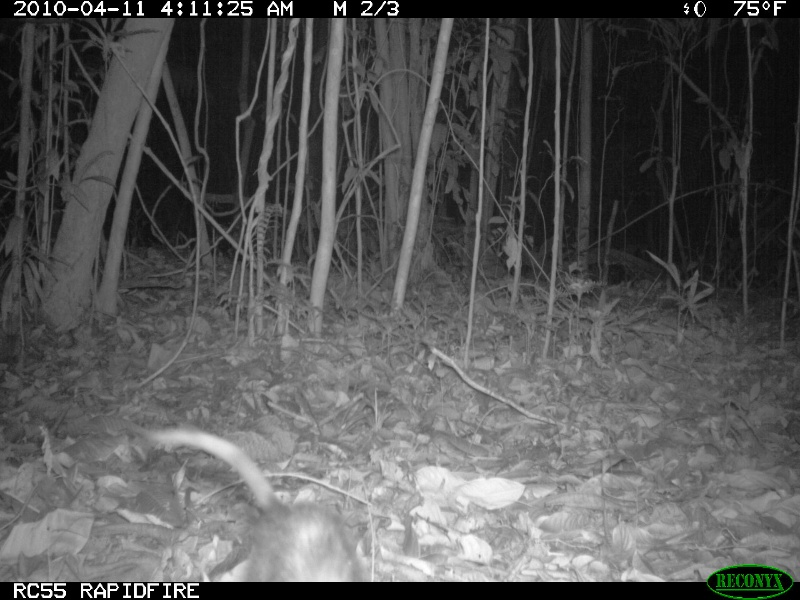opossum: (140, 428, 374, 579)
